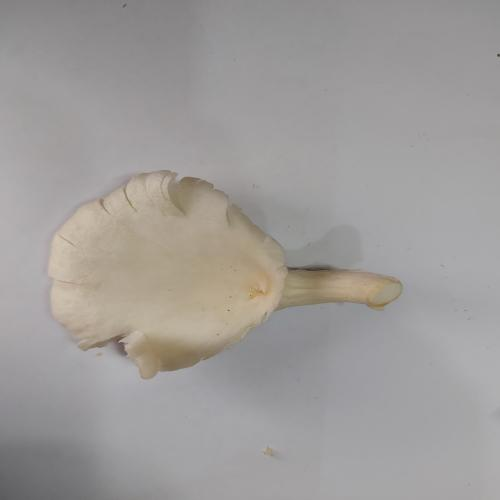Oyster Mushroom: (46, 169, 403, 380)
